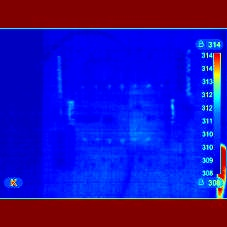Less: (200, 174, 227, 199)
